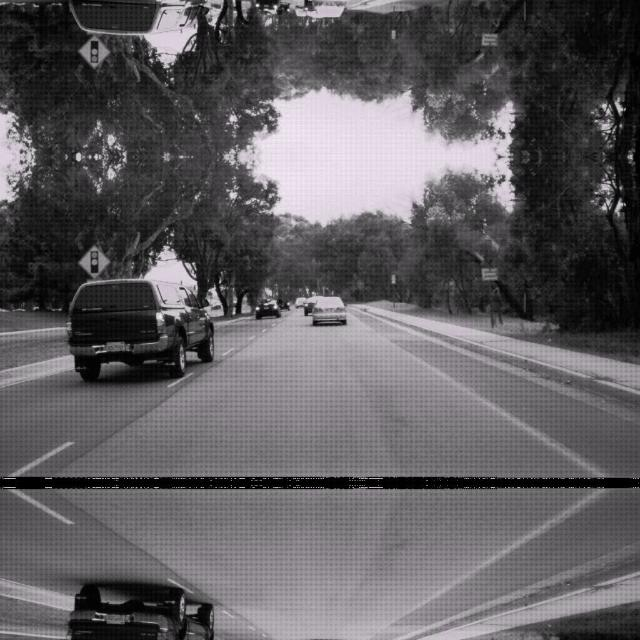signalAhead: (76, 242, 110, 278), (76, 34, 110, 70)
